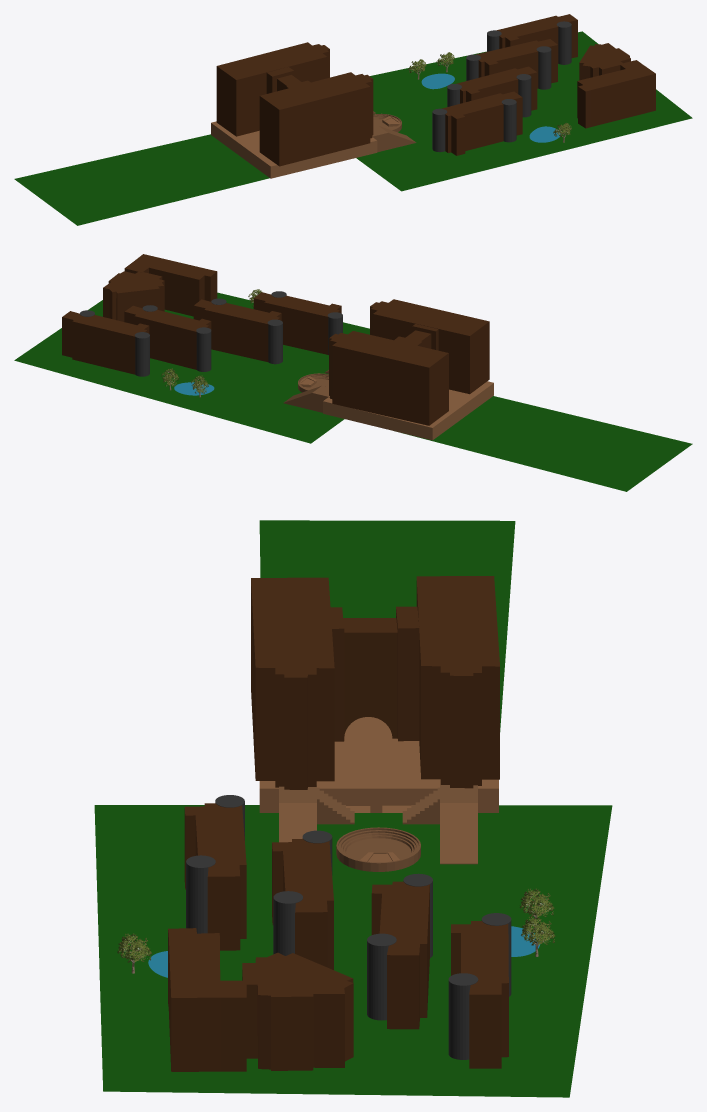
File: mapauao.glb
The picture shows the model from 3 angles, top to bottom: view 1: azimuth 30°, elevation 25°; view 2: azimuth 150°, elevation 25°; view 3: azimuth 270°, elevation 25°; orthographic projection. The views are drawn at different scales.
Parts seen in each view (by area): view 1: Plane.002, Plane.003, Cube, Cube.005, Cube.011, Cube.008, Cube.014, Cube.009, Cube.007, Cube.010, Plane.001, Cube.016 (+8 smaller); view 2: Plane.002, Plane.003, Cube.005, Cube, Cube.010, Cube.007, Cube.011, Cube.008, Cube.009, Cube.014, Plane.001, Cube.015 (+4 smaller); view 3: Plane.002, Plane.003, Cube, Cube.005, Plane.001, Cube.011, Cube.014, Cube.009, Cube.010, Cube.008, Cube.007, Cube.002 (+11 smaller).
Part boxes in pixels (box(x1,y1,x2,y2)): Plane.002: box(356, 31, 692, 191); Plane.003: box(14, 134, 269, 225); Cube: box(259, 72, 373, 166); Cube.005: box(216, 42, 329, 136); Cube.011: box(577, 60, 655, 128); Cube.008: box(442, 91, 522, 155); Cube.014: box(211, 121, 377, 178); Cube.009: box(476, 39, 557, 88); Cube.007: box(456, 66, 537, 110); Cube.010: box(496, 14, 577, 63); Plane.001: box(579, 43, 630, 80); Cube.016: box(372, 126, 416, 152); Plane.002: box(14, 292, 369, 443); Plane.003: box(402, 396, 692, 491); Cube.005: box(329, 331, 448, 425); Cube: box(370, 299, 489, 394); Cube.010: box(62, 311, 149, 374); Cube.007: box(193, 299, 281, 361); Cube.011: box(124, 254, 217, 316); Cube.008: box(253, 292, 341, 354); Cube.009: box(124, 305, 211, 369); Cube.014: box(323, 381, 493, 440); Plane.001: box(103, 271, 164, 321); Cube.015: box(283, 386, 329, 412); Plane.002: box(94, 805, 612, 1097); Plane.003: box(259, 520, 515, 731); Cube: box(251, 577, 334, 789); Cube.005: box(416, 576, 499, 788); Plane.001: box(242, 952, 353, 1070); Cube.011: box(168, 928, 246, 1071); Cube.014: box(259, 717, 498, 812); Cube.009: box(371, 881, 429, 1029); Cube.010: box(451, 921, 508, 1068); Cube.008: box(184, 803, 246, 950); Cube.007: box(272, 839, 333, 969); Cube.002: box(343, 618, 397, 738).
Bounding box in the file's own units: 21.56 × 2.6 × 8.3.
16 materials, 6 textured.
